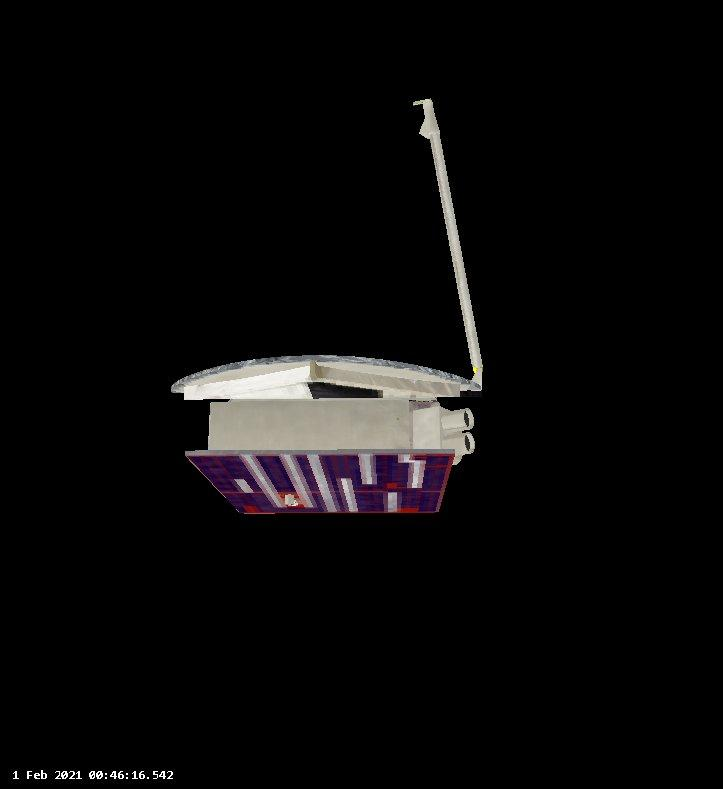antenna: (167, 93, 486, 395)
body: (202, 397, 444, 459)
solar: (182, 444, 459, 519)
thruster: (441, 430, 479, 458), (441, 408, 478, 430)
